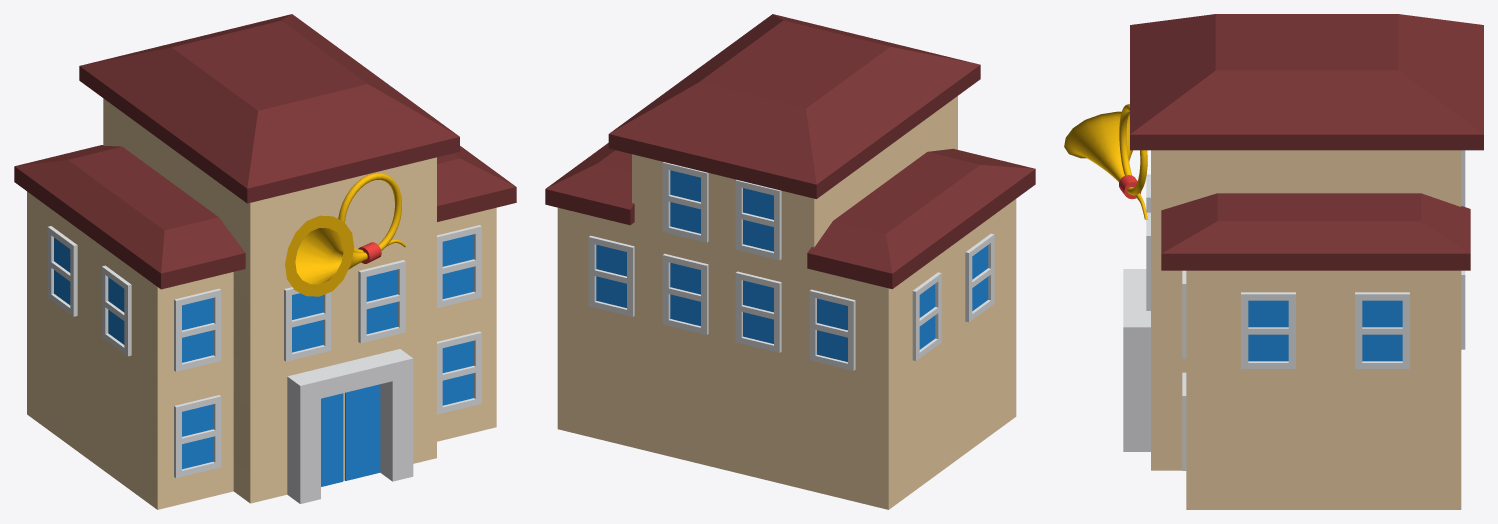
Rendered from post_office.glb.
3 renders of one model, left to right at view 1: azimuth 30°, elevation 25°; view 2: azimuth 150°, elevation 25°; view 3: azimuth 270°, elevation 25°, orthographic. The views are drawn at different scales.
Visible parts, largest first — view 1: Cube.487; view 2: Cube.487; view 3: Cube.487.
Part boxes in pixels (bbox=[...]): Cube.487: bbox=[14, 14, 516, 509]; Cube.487: bbox=[545, 14, 1035, 509]; Cube.487: bbox=[1064, 14, 1483, 509].
Bounding box in the file's own units: 2.02 × 1.96 × 1.96.
Materials: 1 (1 with a texture image).
